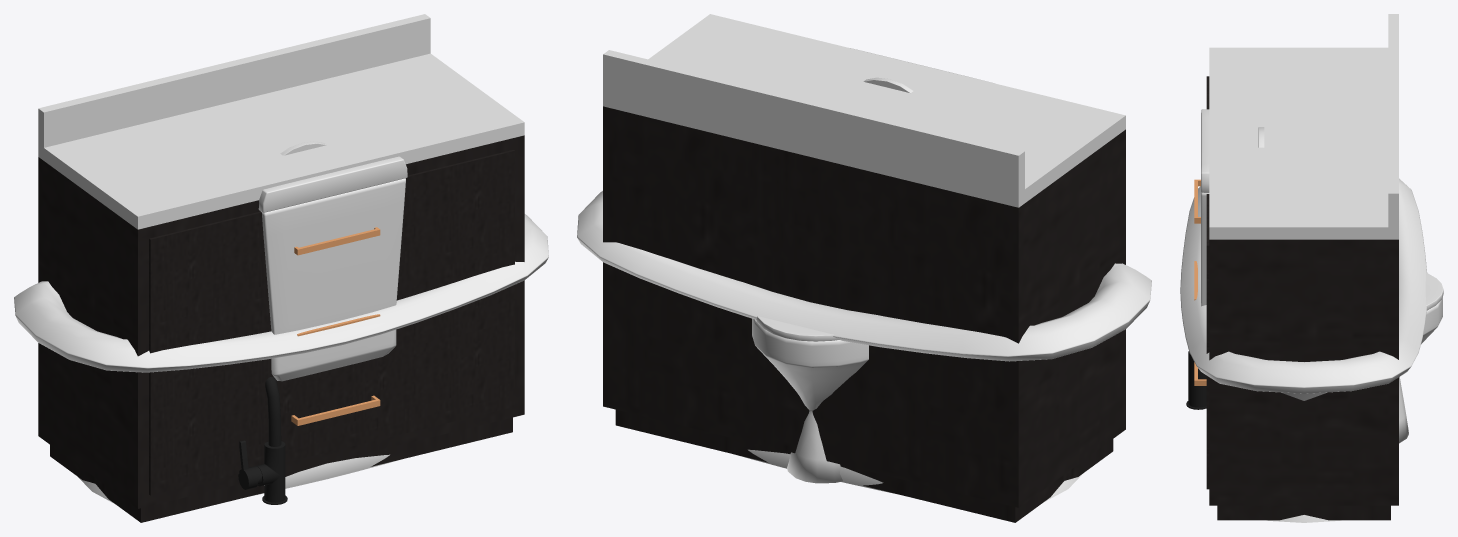
File: bath-set.glb
3 renders of one model, left to right at view 1: azimuth 30°, elevation 25°; view 2: azimuth 150°, elevation 25°; view 3: azimuth 270°, elevation 25°, orthographic. The views are drawn at different scales.
Visible parts, largest first — view 1: BathroomVanity05, BathroomVanity05Drawer03, Toilet01, BathroomVanity05Drawer01, Bathtub01, BathroomVanity05Drawer02, Faucet03, FaucetLever03; view 2: BathroomVanity05, Bathtub01, Toilet01, ToiletSeat01; view 3: BathroomVanity05, Bathtub01, Toilet01, BathroomVanity05Drawer01, Faucet03, ToiletSeat01, BathroomVanity05Drawer03, BathroomVanity05Drawer02.
Boxes of the visible parts, x1=… form: BathroomVanity05: x1=38, y1=14, x2=524, y2=522; BathroomVanity05Drawer03: x1=149, y1=321, x2=514, y2=495; Toilet01: x1=258, y1=156, x2=407, y2=381; BathroomVanity05Drawer01: x1=149, y1=150, x2=514, y2=324; Bathtub01: x1=14, y1=214, x2=548, y2=503; BathroomVanity05Drawer02: x1=149, y1=236, x2=514, y2=410; Faucet03: x1=256, y1=377, x2=287, y2=504; FaucetLever03: x1=238, y1=440, x2=262, y2=489; BathroomVanity05: x1=603, y1=14, x2=1125, y2=522; Bathtub01: x1=577, y1=191, x2=1151, y2=501; Toilet01: x1=752, y1=48, x2=992, y2=483; ToiletSeat01: x1=756, y1=316, x2=839, y2=341; BathroomVanity05: x1=1209, y1=14, x2=1398, y2=520; Bathtub01: x1=1180, y1=178, x2=1427, y2=522; Toilet01: x1=1201, y1=109, x2=1442, y2=443; BathroomVanity05Drawer01: x1=1194, y1=76, x2=1209, y2=326; Faucet03: x1=1186, y1=351, x2=1206, y2=409; ToiletSeat01: x1=1425, y1=272, x2=1443, y2=310; BathroomVanity05Drawer03: x1=1194, y1=362, x2=1209, y2=489; BathroomVanity05Drawer02: x1=1194, y1=261, x2=1209, y2=408.
Size of the model in its own units: 1.32 by 0.8926 by 0.6433.
Materials: 1 (1 with a texture image).
